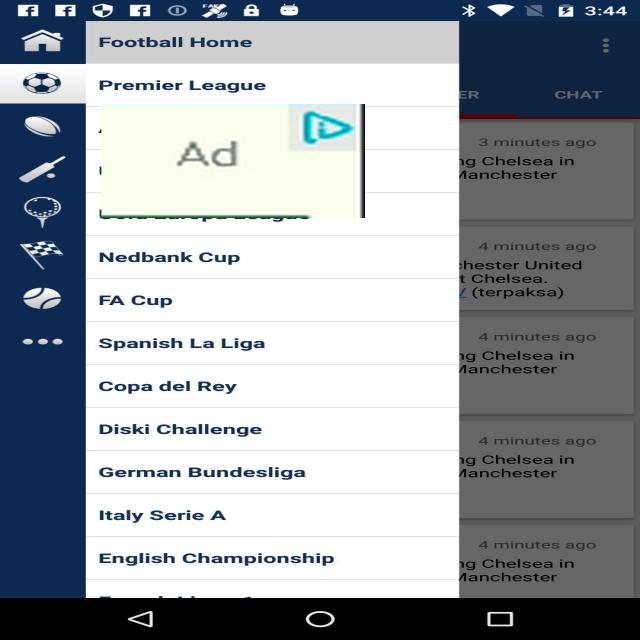sneaking: (101, 104, 365, 218)
